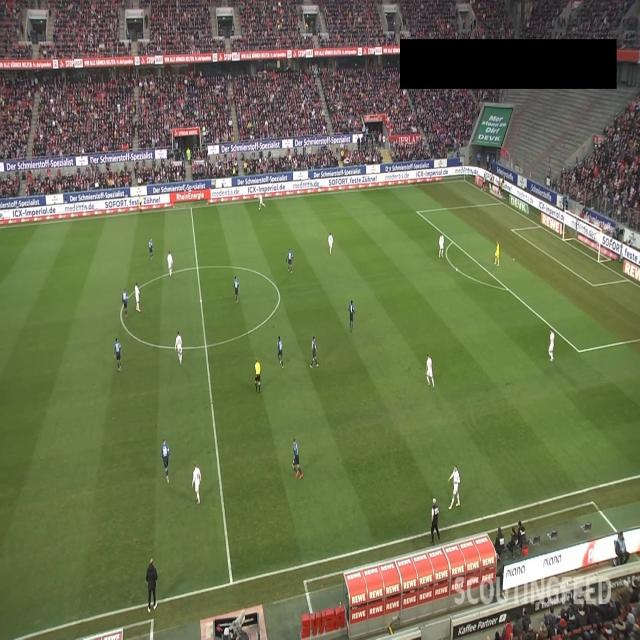ball: (456, 267, 458, 272)
